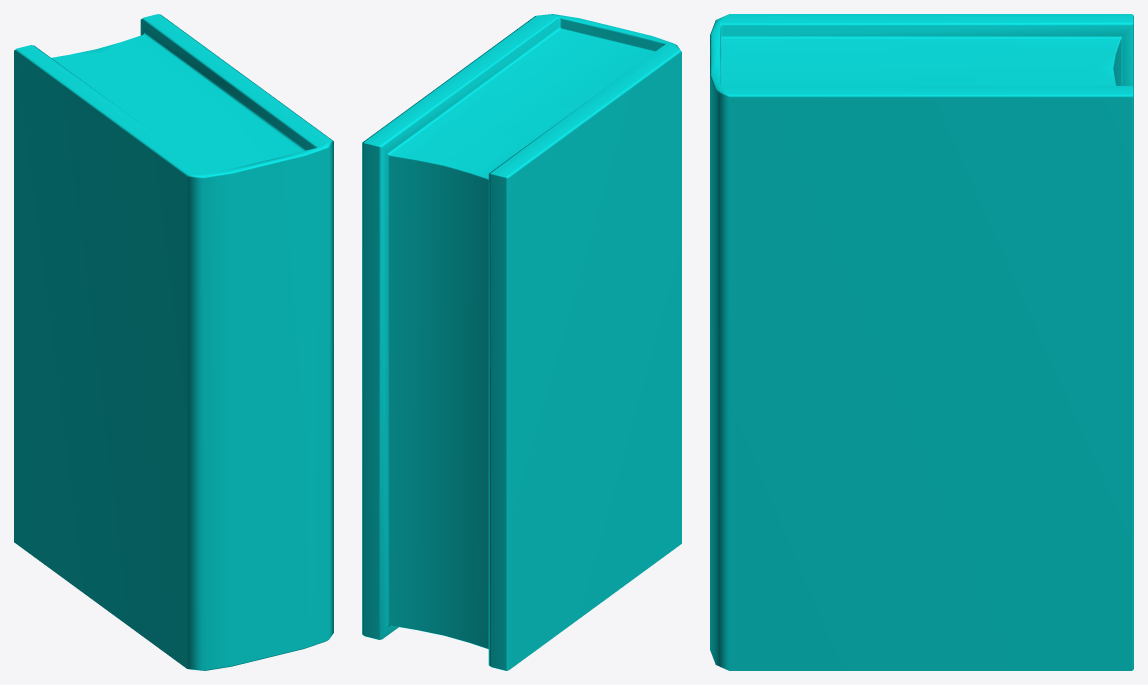
File: Story_1_Bedroom_Book_L.fbx
3 renders of one model, left to right at view 1: azimuth 30°, elevation 25°; view 2: azimuth 150°, elevation 25°; view 3: azimuth 270°, elevation 25°, orthographic. The views are drawn at different scales.
Parts seen in each view (by area): view 1: Book_L; view 2: Book_L; view 3: Book_L.
Boxes of the visible parts, left/top/right/bottom form: Book_L: left=14, top=14, right=333, bottom=670; Book_L: left=362, top=14, right=681, bottom=670; Book_L: left=710, top=14, right=1133, bottom=670.
Size of the model in its own units: 4.04 by 12.99 by 8.65.
